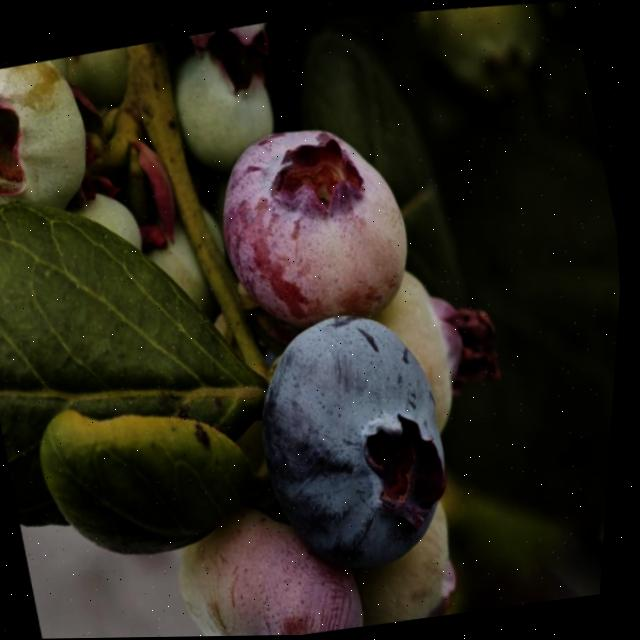RipeBlueBerry: (232, 299, 480, 581)
Semi-RipeBlueBerry: (194, 92, 437, 353)
